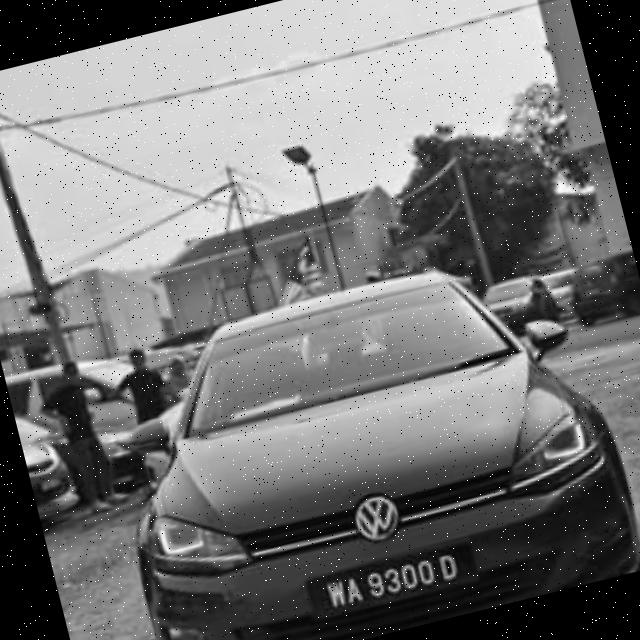License_Plate: (300, 533, 481, 625)
car: (82, 231, 640, 640)
